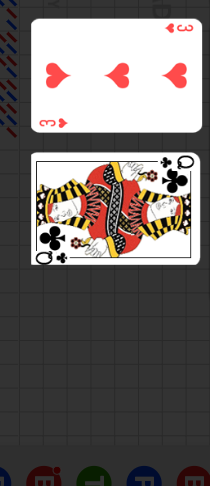3H: (38, 116, 70, 129)
QC: (31, 219, 78, 263), (152, 152, 198, 196)
